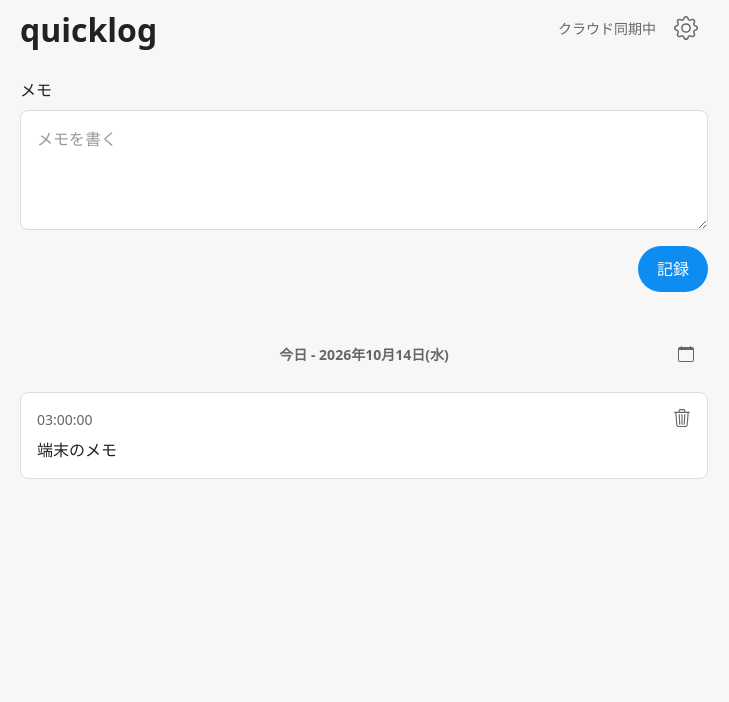
it: App: 認証状態と同期の接続 › 認証済みでメモを記録すると 1 秒後に同期し、クラウド記録も表示・保存する
The image size is (729, 702).
Type "同期するメモ" into the text box labelled "メモ". click: coordinates (364, 170)
box: [20, 110, 708, 230]
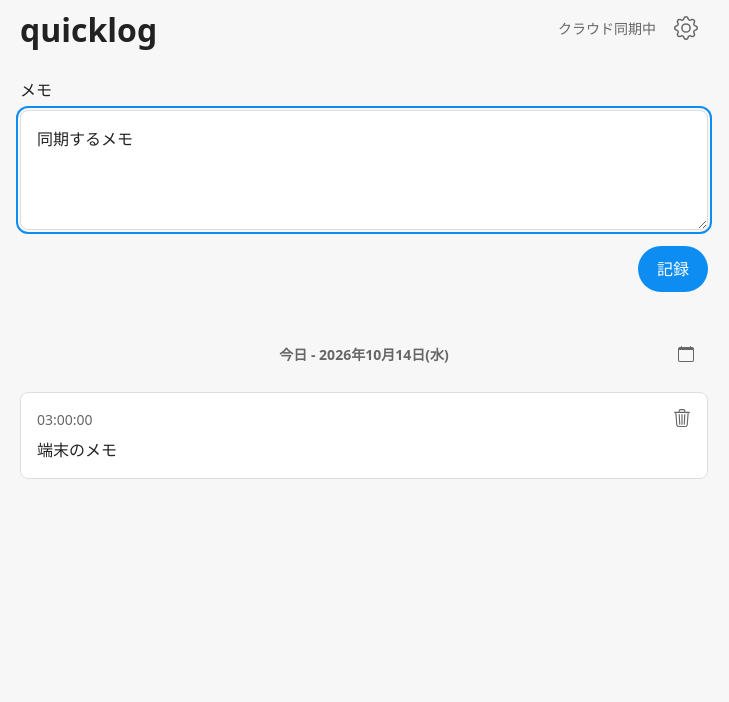
Click the button "記録". click: coordinates (673, 269)
box: [638, 246, 708, 292]
Wait 1000 ms
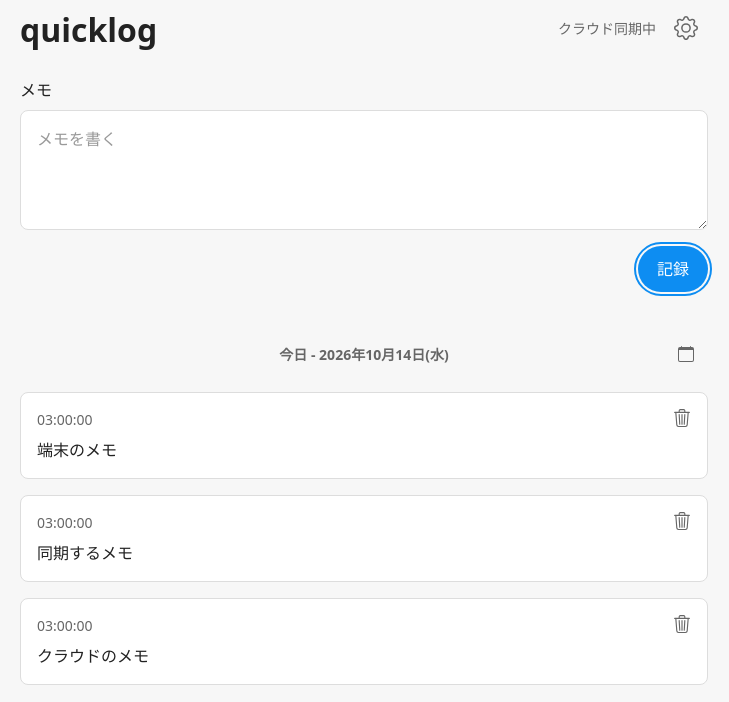
Check: the text "クラウドのメモ" is shown, box [37, 645, 149, 667]
